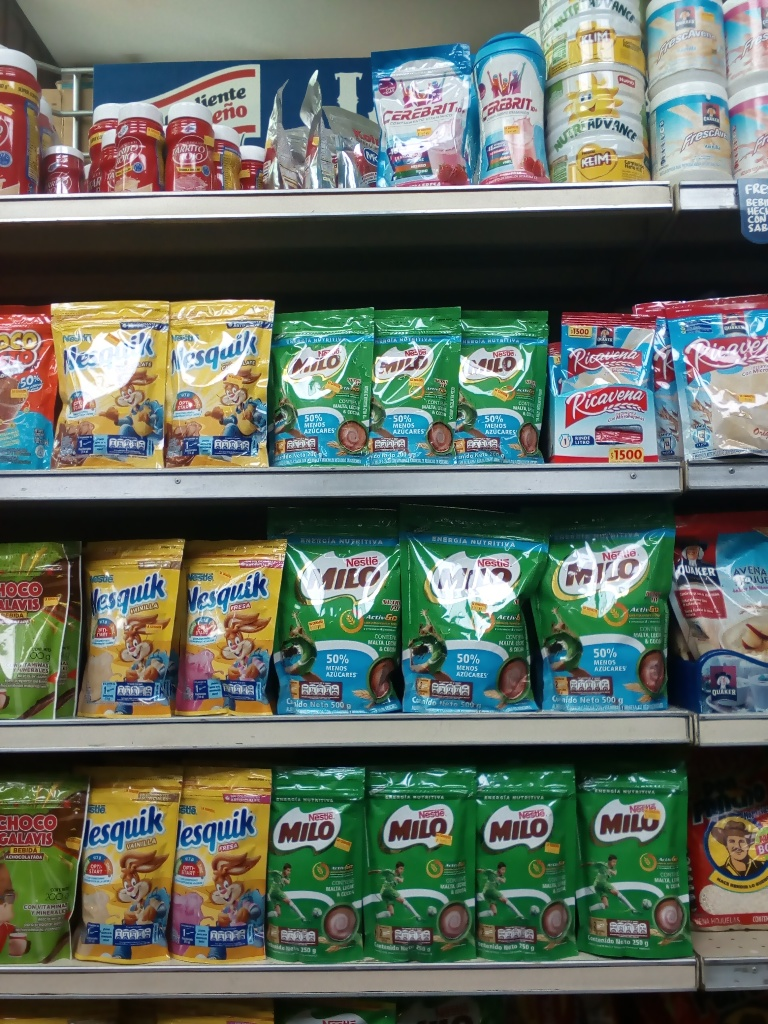COL0170104DYP20000: (2, 304, 59, 469)
COL0170203DYP25000: (268, 759, 365, 965)
COL0170205DYP20000: (271, 307, 377, 463)
COL0170205DYP50000: (268, 502, 402, 715)
COL0170303DYP20000: (50, 300, 167, 470)
COL0170305DYP20000: (186, 536, 290, 718)
COL0170306DYP20000: (85, 538, 185, 720)
